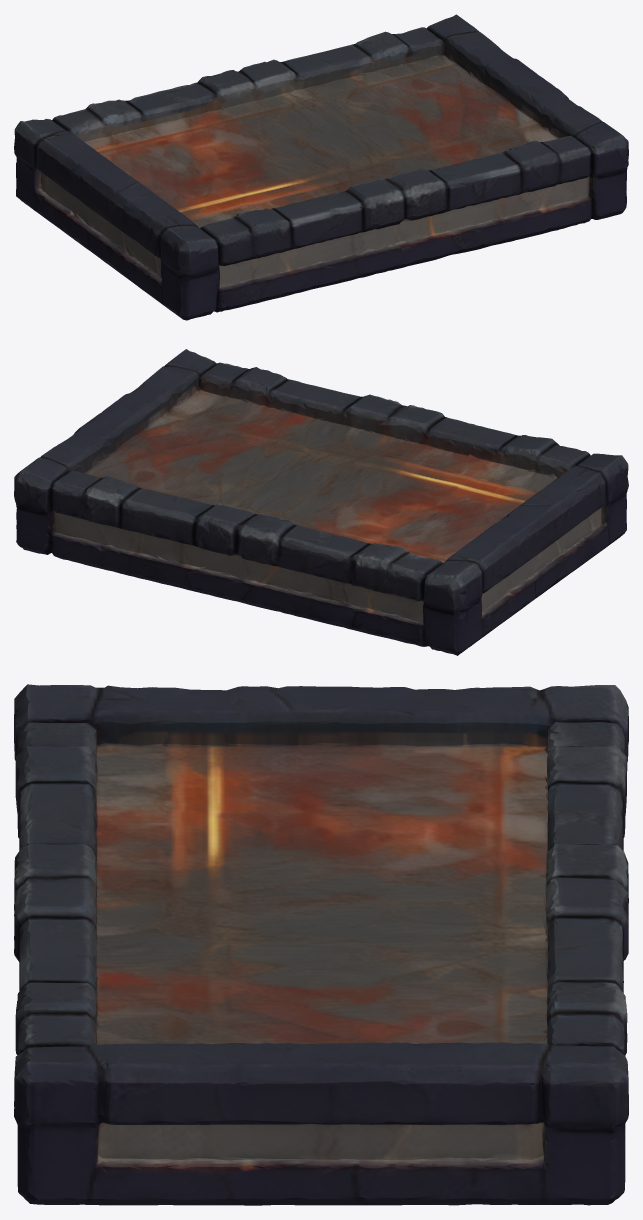
Rendered from rodin_Forge_WallStraight_raw.glb.
3 renders of one model, top to bottom at view 1: azimuth 30°, elevation 25°; view 2: azimuth 150°, elevation 25°; view 3: azimuth 270°, elevation 25°, orthographic. The views are drawn at different scales.
Parts seen in each view (by area): view 1: model; view 2: model; view 3: model.
Boxes of the visible parts, x1=… form: model: x1=14, y1=14, x2=628, y2=320; model: x1=14, y1=349, x2=628, y2=655; model: x1=14, y1=684, x2=628, y2=1205.
Bounding box in the file's own units: 1.89 × 0.324 × 1.26.
1 material, 1 textured.
